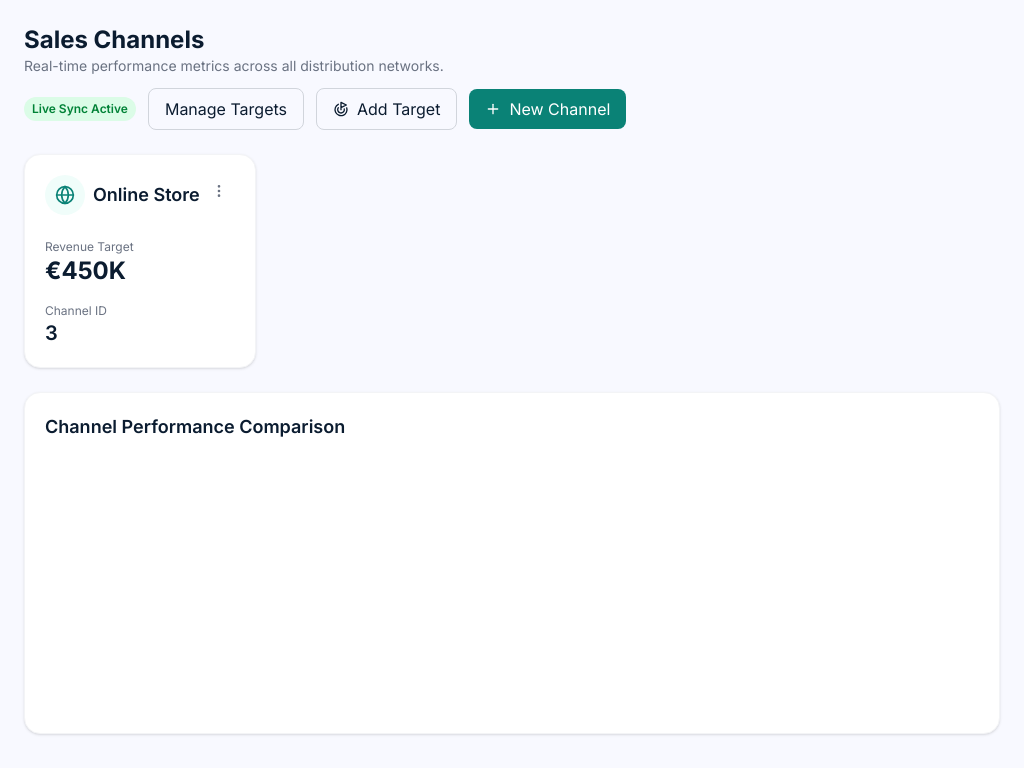
SalesChannelsPage › fills the channel edit form from the single channel fetch
Click the button named "Actions for Online Store". click: (219, 191)
box: top-left (203, 175), bottom-right (235, 207)
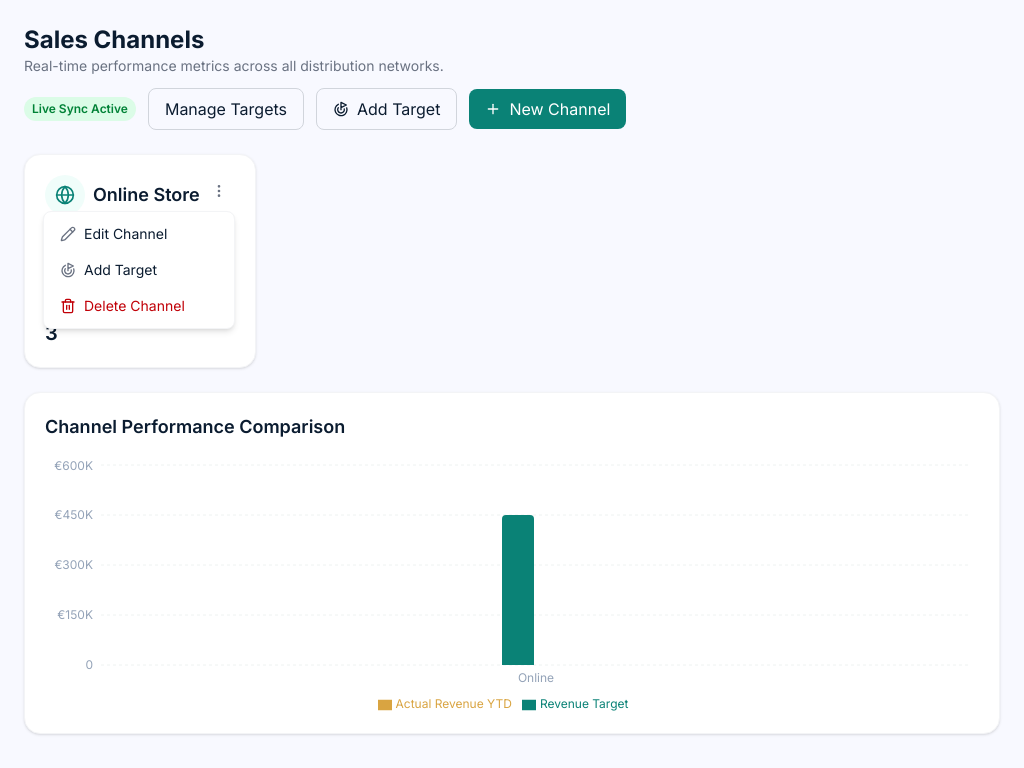
Click the menu item "Edit Channel". click: (139, 234)
box: top-left (44, 216), bottom-right (234, 252)
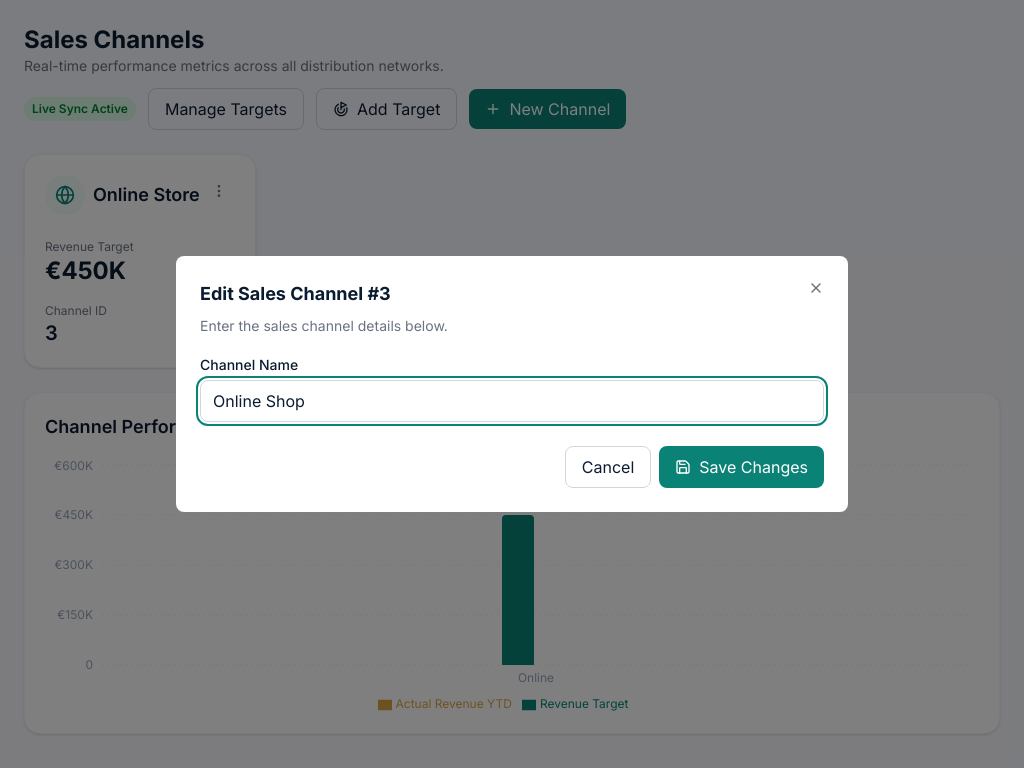
Expected: the field labelled "Channel Name" holds "Online Shop", top-left (200, 380), bottom-right (824, 422)
